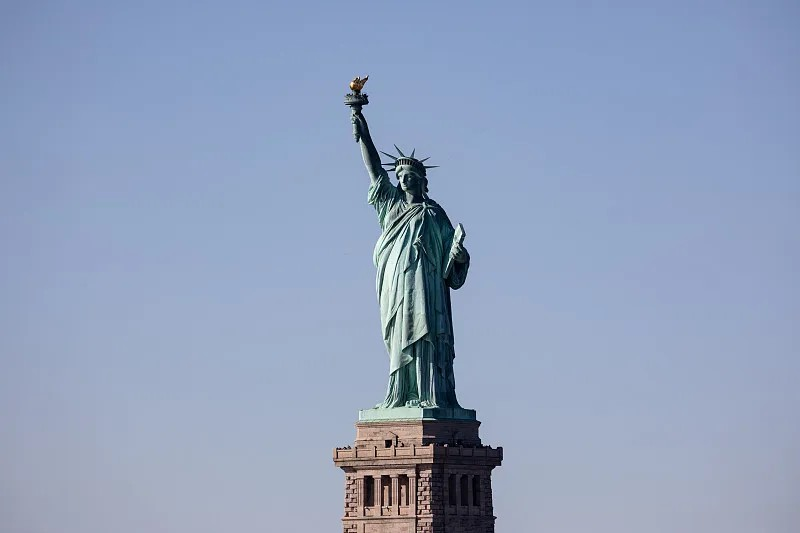SL: (332, 74, 503, 533)
